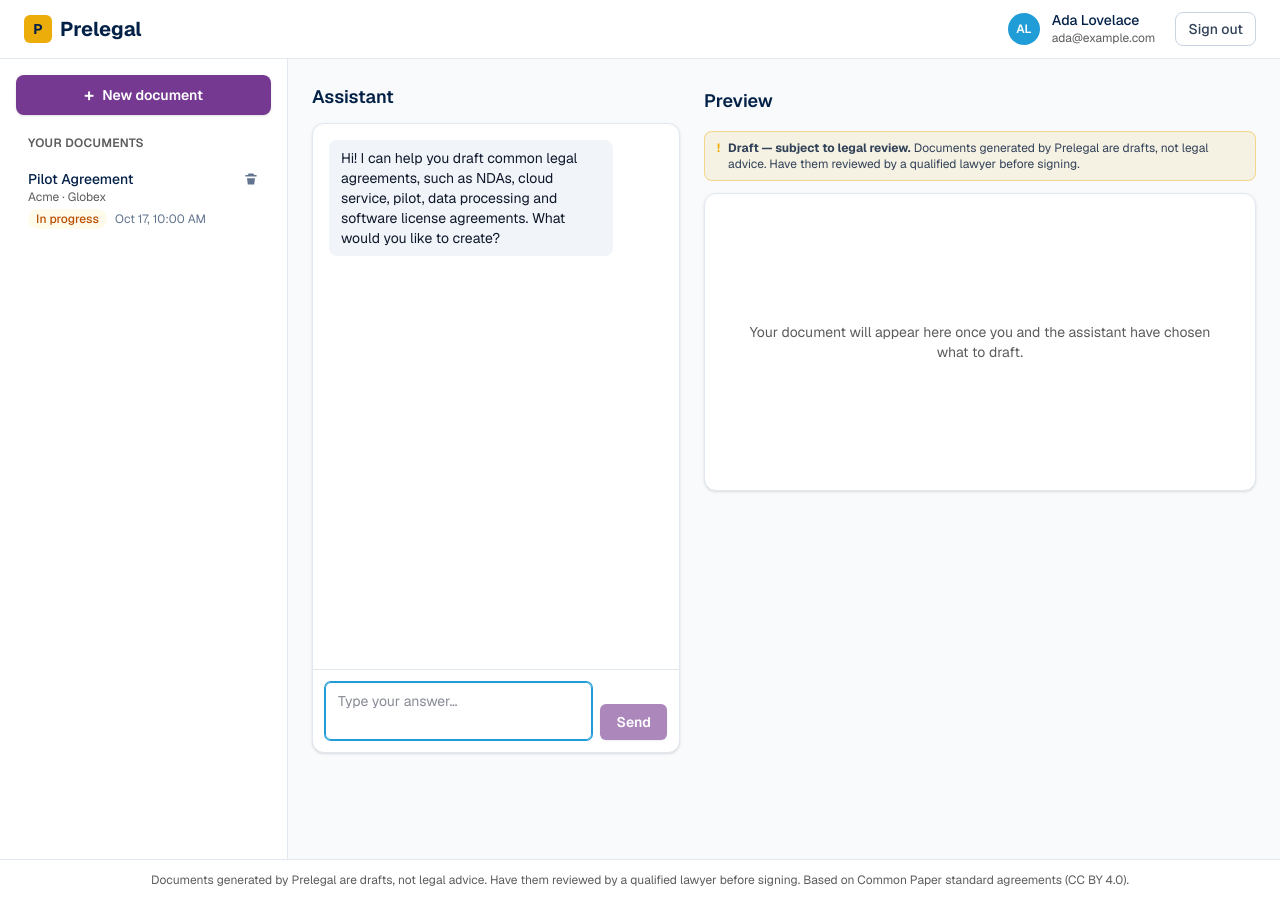
Scenario: AppShell › keeps the document when deletion is cancelled with the Cancel button
Click the button named "Delete Pilot Agreement": click(251, 179) 239,167 -> 263,191
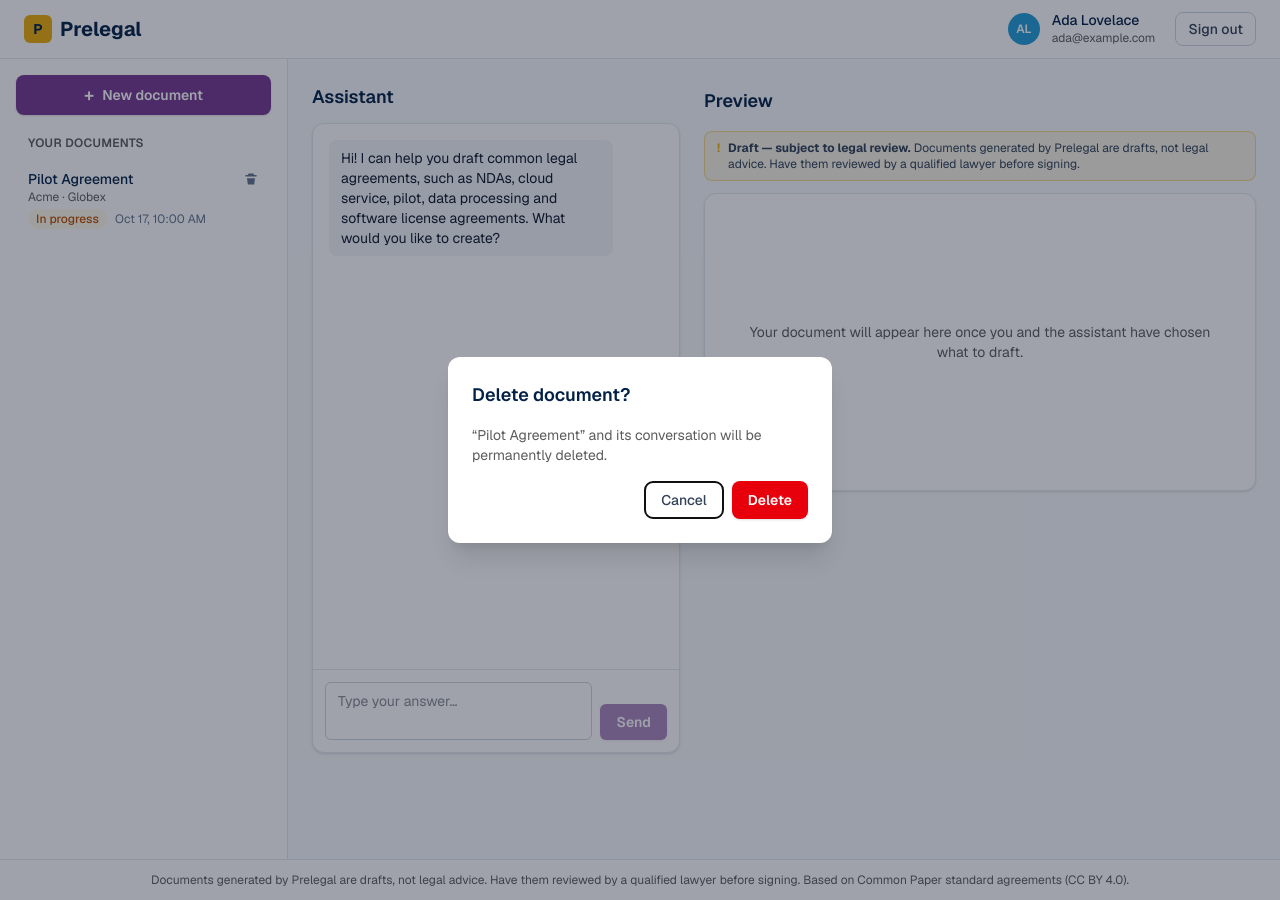
Click the button "Cancel": click(684, 500) 644,481 -> 724,519
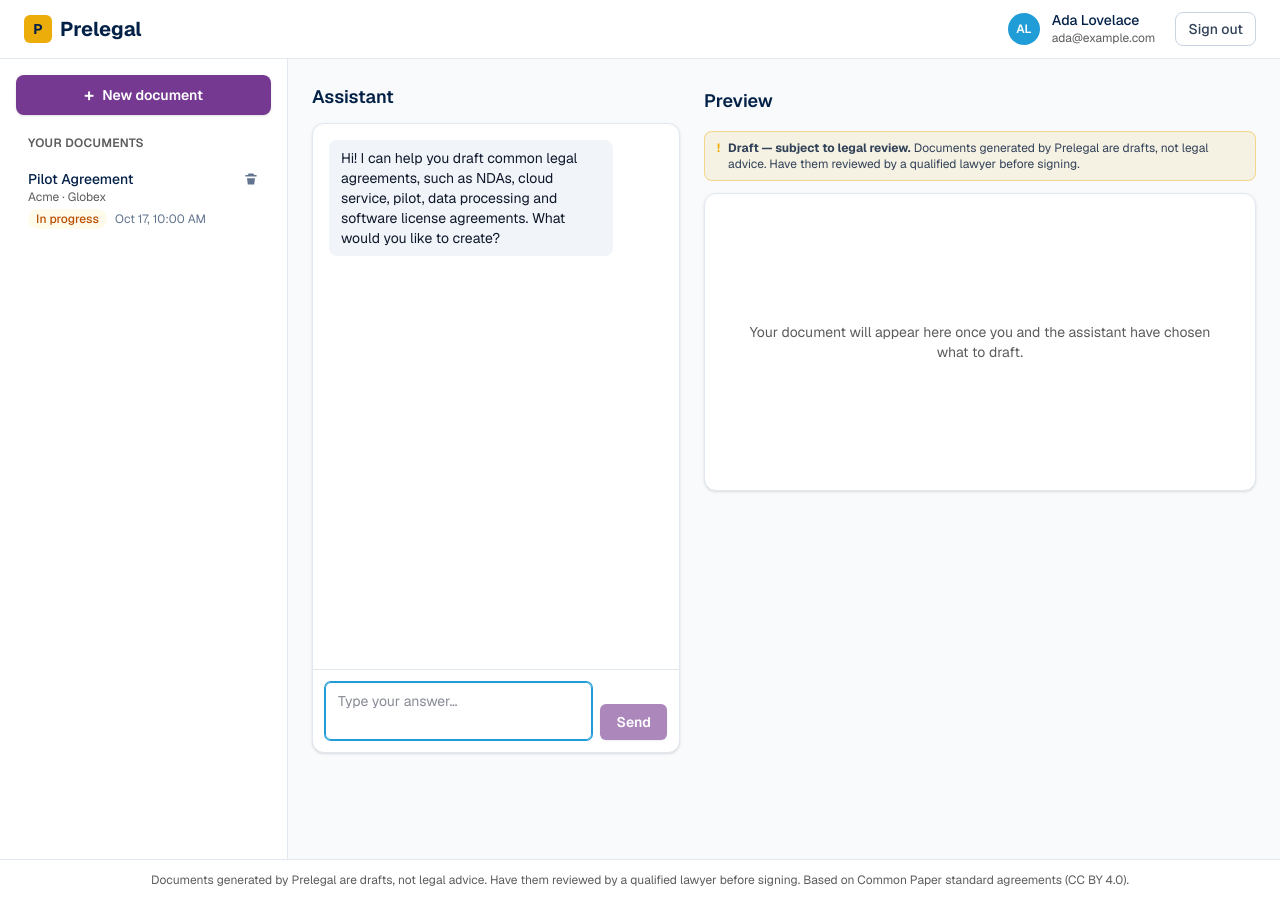
Check: the text "Pilot Agreement" is shown, box 28,170 -> 134,188
Check: the dialog is gone
